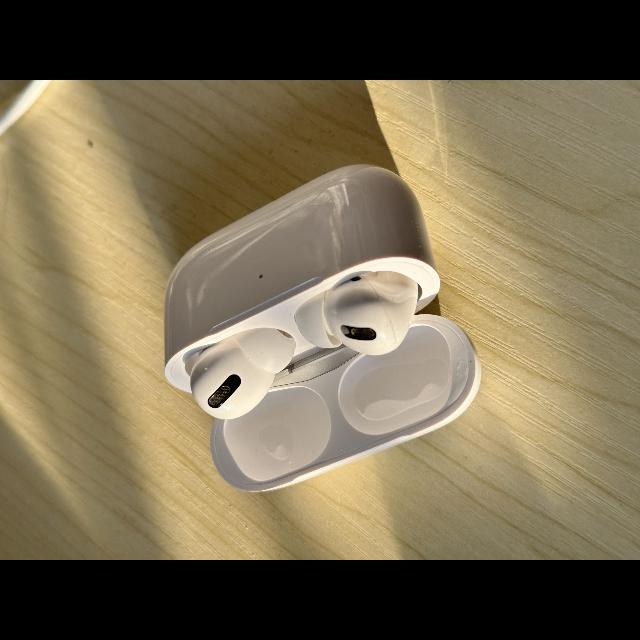AirPods Pro: (164, 164, 481, 492)
